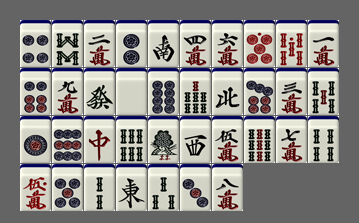0m: (20, 164, 51, 211)
0p: (244, 20, 275, 67)
0s: (276, 20, 307, 67)
1m: (308, 20, 339, 67)
1p: (20, 116, 51, 163)
1s: (148, 116, 179, 163)
1z: (116, 164, 147, 211)
2m: (84, 20, 115, 67)
2p: (116, 20, 147, 67)
2s: (84, 164, 115, 211)
2z: (148, 20, 179, 67)
3m: (276, 68, 307, 115)
3p: (180, 164, 211, 211)
3s: (148, 164, 179, 211)
3z: (180, 116, 211, 163)
4m: (180, 20, 211, 67)
4p: (20, 20, 51, 67)
4s: (308, 116, 339, 163)
4z: (212, 68, 243, 115)
5m: (212, 116, 243, 163)
5p: (52, 164, 83, 211)
5s: (308, 68, 339, 115)
5z: (116, 68, 147, 115)
6m: (212, 20, 243, 67)
6p: (20, 68, 51, 115)
6s: (116, 116, 147, 163)
6z: (84, 68, 115, 115)
7m: (276, 116, 307, 163)
7p: (244, 68, 275, 115)
7s: (180, 68, 211, 115)
7z: (84, 116, 115, 163)
8m: (212, 164, 243, 211)
8p: (148, 68, 179, 115)
8s: (52, 20, 83, 67)
9m: (52, 68, 83, 115)
9p: (52, 116, 83, 163)
9s: (244, 116, 275, 163)
